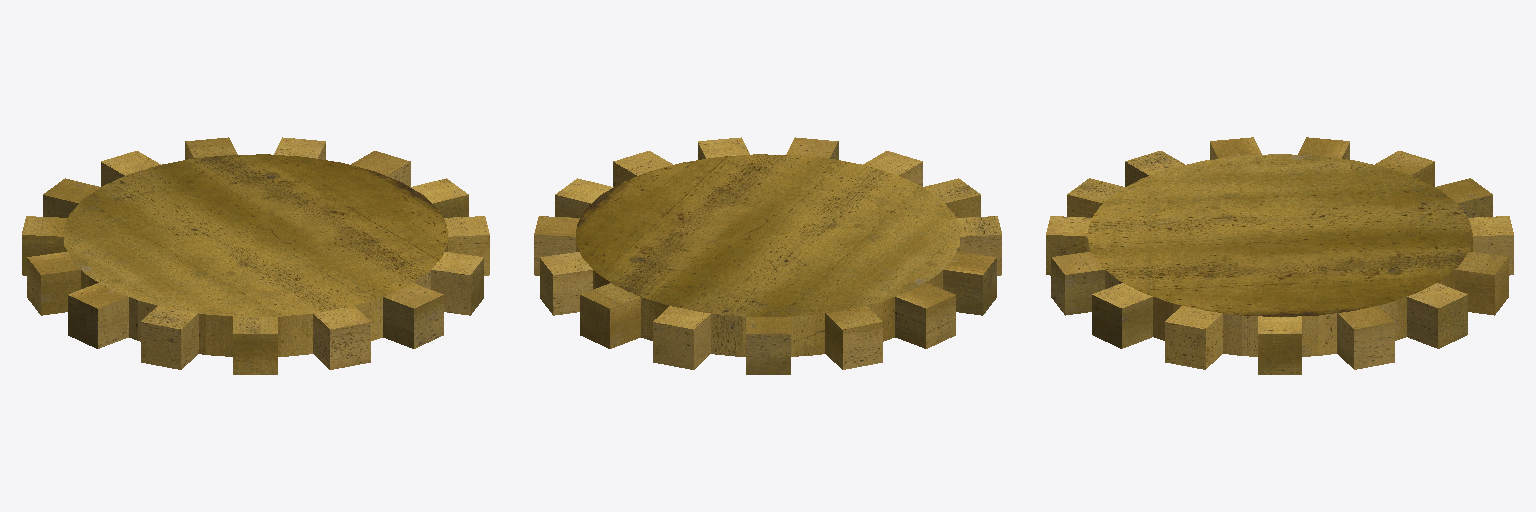
3 renders of one model, left to right at view 1: azimuth 30°, elevation 25°; view 2: azimuth 150°, elevation 25°; view 3: azimuth 270°, elevation 25°, orthographic.
Visible parts, largest first — view 1: Cube.014; view 2: Cube.014; view 3: Cube.014.
Part boxes in pixels (bbox=[...]): Cube.014: bbox=[22, 137, 489, 374]; Cube.014: bbox=[534, 137, 1001, 374]; Cube.014: bbox=[1046, 137, 1513, 374].
Bounding box in the file's own units: 1.18 × 0.1138 × 1.19.
Materials: 1 (1 with a texture image).